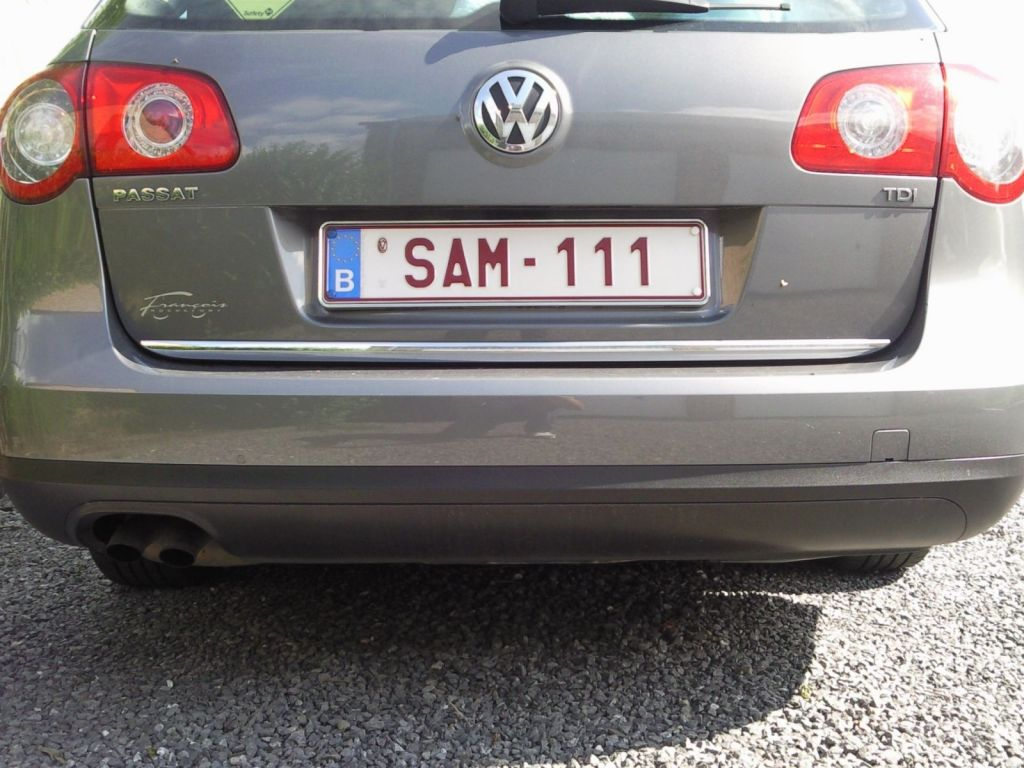licenceplate: (319, 221, 707, 308)
